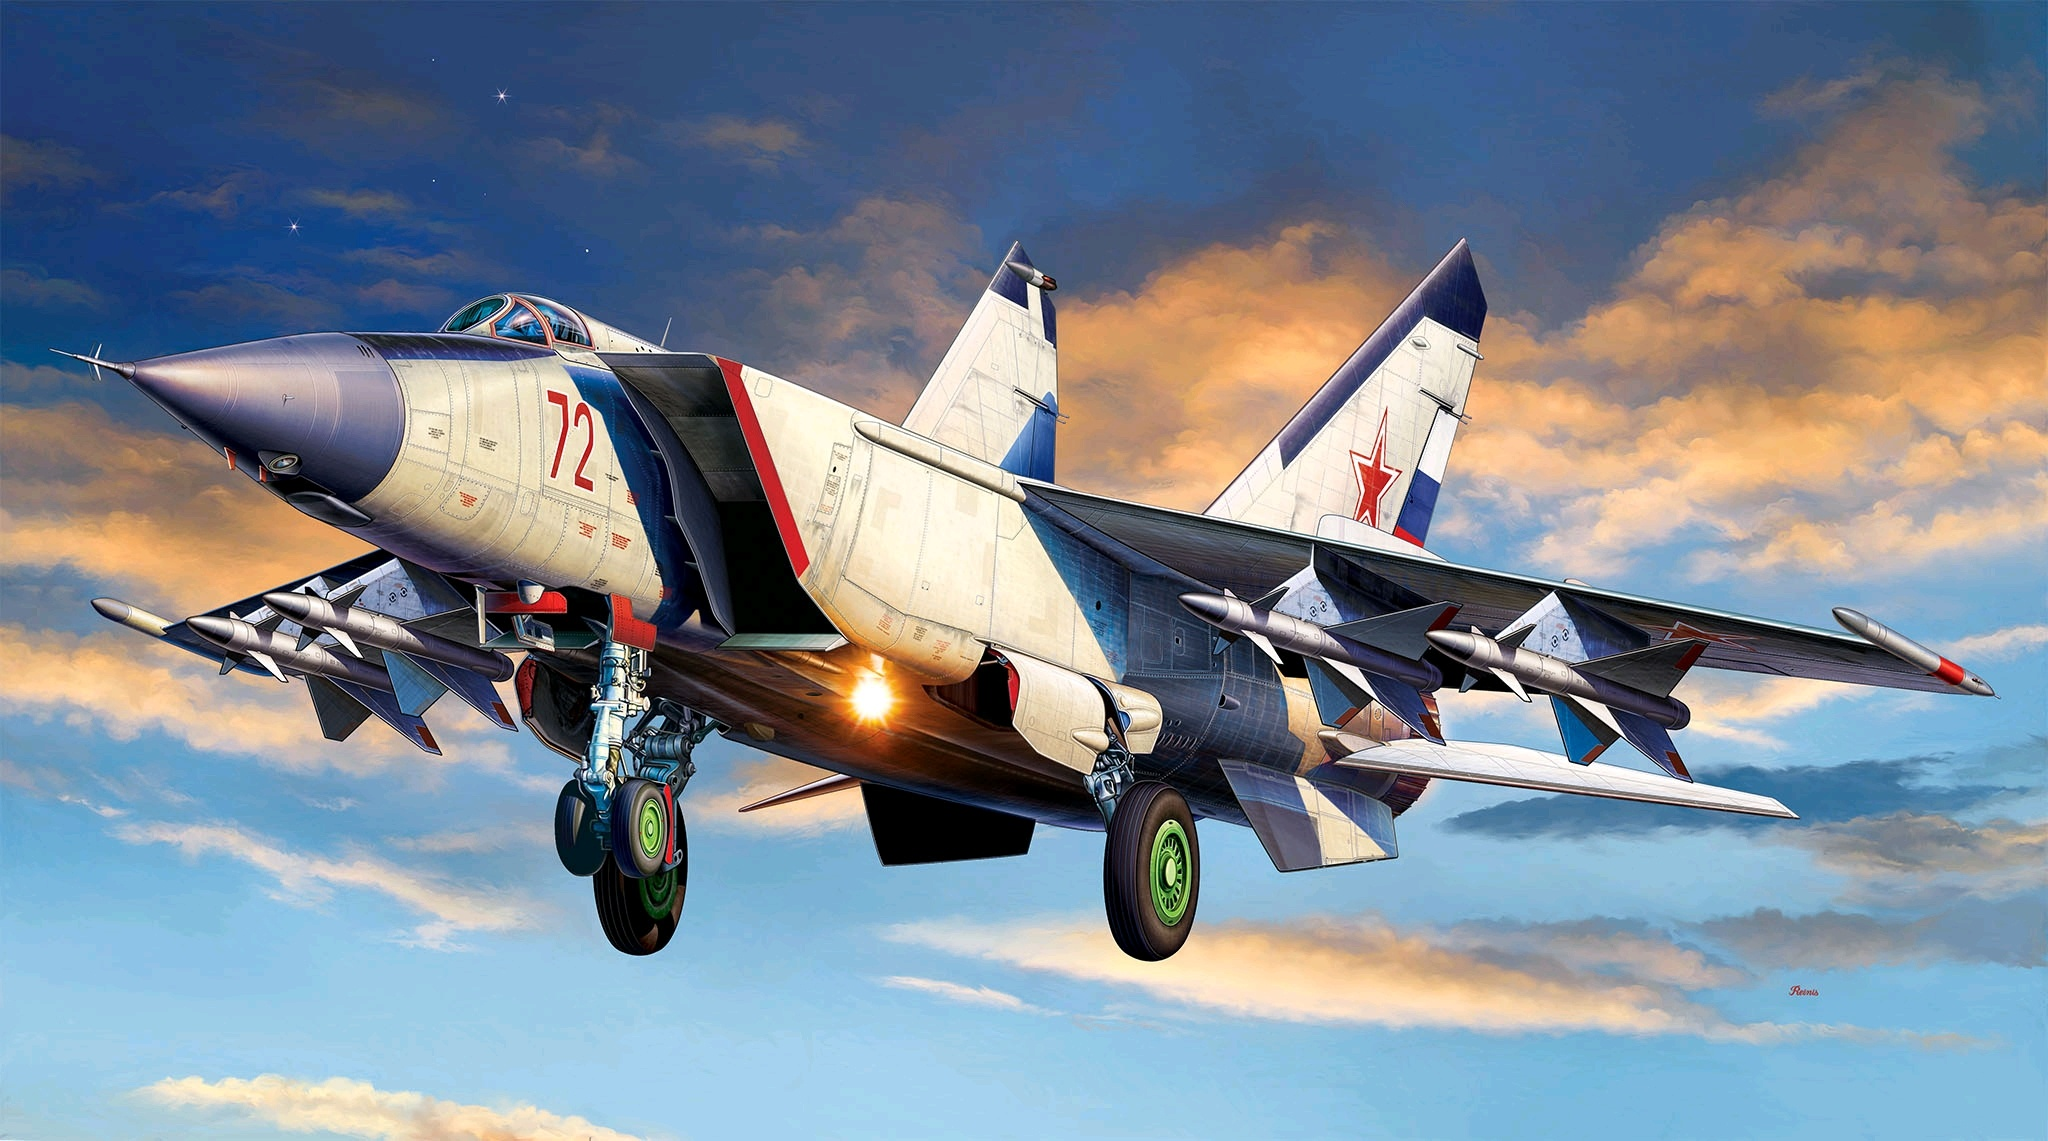airplane: (35, 211, 2003, 986)
